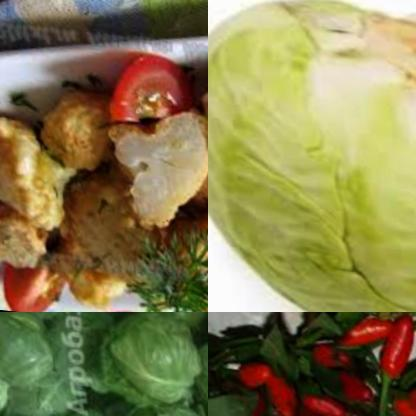brus capusta: (0, 312, 208, 416)
cabbage: (208, 0, 416, 312)
cayliflower: (0, 72, 128, 280), (101, 97, 208, 312)
hot pepper: (314, 342, 371, 403), (329, 312, 399, 355), (379, 312, 416, 385), (233, 343, 276, 393), (262, 368, 302, 416), (294, 384, 348, 416), (268, 391, 333, 416), (392, 372, 416, 416)
tomato: (95, 40, 194, 133), (0, 246, 66, 312)
